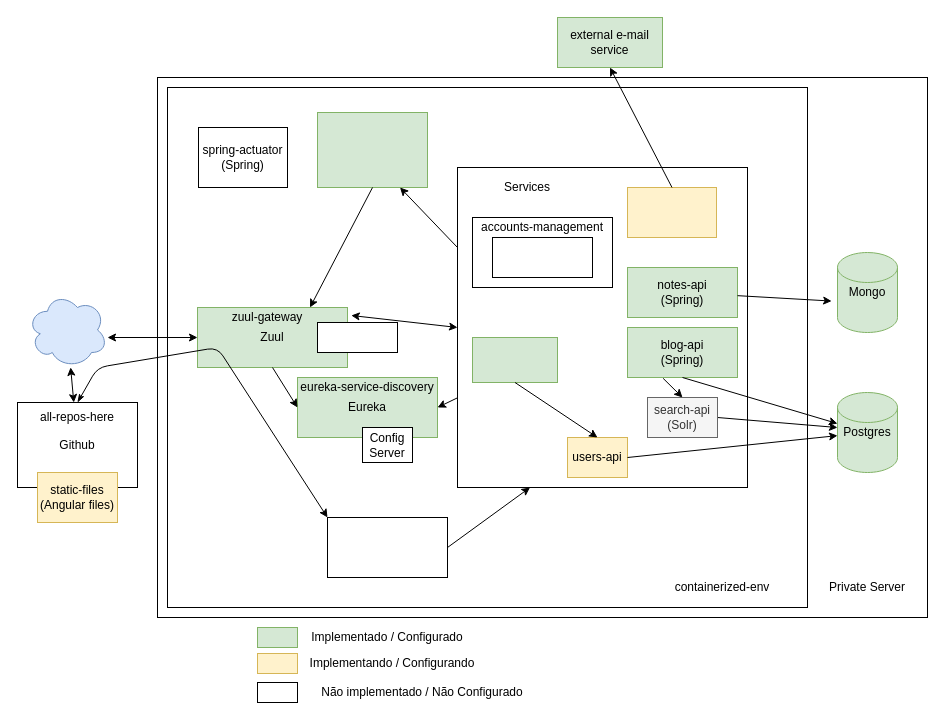
This 945x720 diagram has some shape labels left out. Here are the shapes that lost their labels. From the top down, the box of each, then its label:
(316, 112, 428, 188): Rabbit-mq
(626, 186, 716, 238): emails-api (Spring)
(492, 236, 592, 278): password-reset-email-verification
(316, 322, 398, 352): Load Balancer (Ribbon)
(472, 336, 558, 382): auth-api (Spring)
(326, 516, 448, 578): Jenkins
